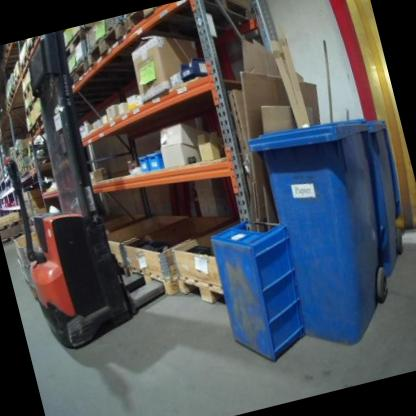pallet: (123, 0, 258, 61), (80, 21, 133, 69), (128, 258, 183, 304), (176, 267, 227, 315), (60, 28, 89, 61), (65, 60, 92, 87), (1, 231, 25, 246), (20, 81, 36, 102), (25, 36, 42, 54), (0, 219, 22, 232), (22, 100, 37, 118), (17, 53, 31, 72), (27, 122, 40, 137), (11, 72, 23, 88), (6, 87, 17, 101), (35, 113, 46, 127), (28, 160, 38, 171), (22, 167, 28, 176)
pallet_truck: (0, 19, 187, 362)
small_load_carrier: (144, 150, 164, 174), (136, 153, 149, 174)
